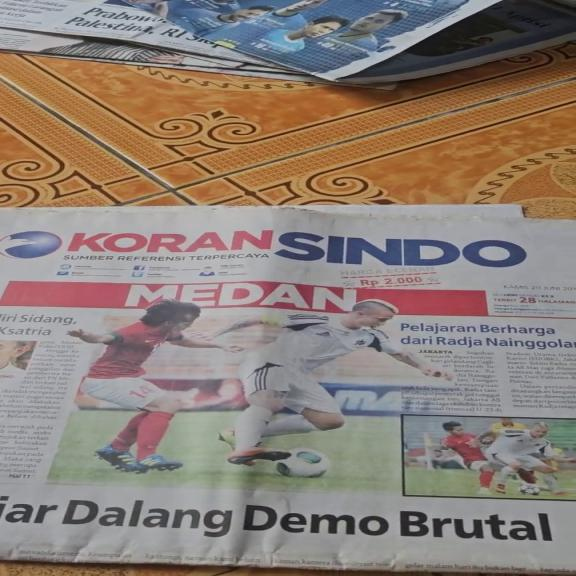Kertas: (3, 211, 566, 570), (5, 1, 329, 79)
